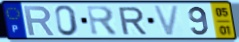0: (54, 4, 80, 38)
9: (188, 6, 210, 36)
R: (85, 5, 120, 37), (22, 5, 56, 37), (116, 6, 148, 36)
V: (152, 4, 182, 38)
